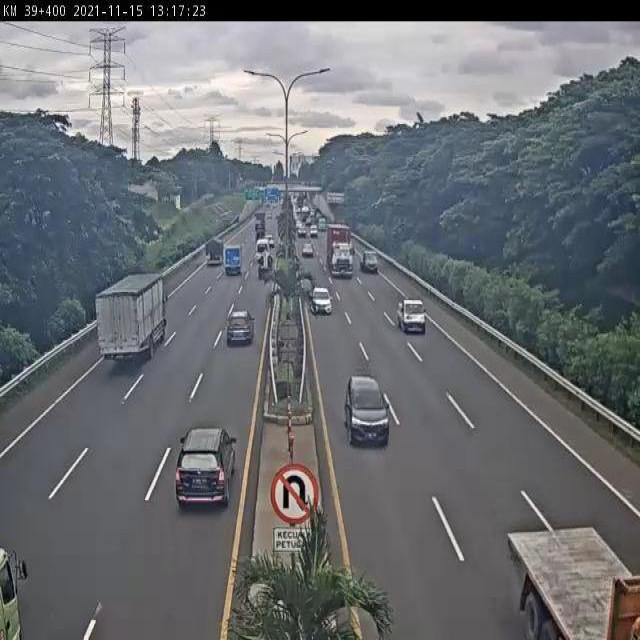car: (172, 422, 238, 507), (345, 375, 392, 449), (224, 308, 256, 349), (310, 282, 336, 318)
truck-l-: (515, 529, 638, 640)
truck-m-: (94, 272, 168, 364)
truck-s-: (395, 293, 429, 336), (222, 242, 245, 278), (255, 250, 279, 282), (360, 245, 382, 275), (204, 236, 225, 265)
truck-xl-: (324, 220, 357, 287)
